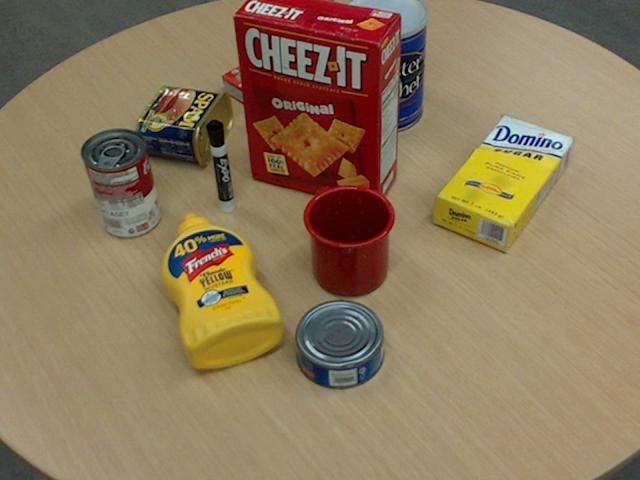cracker_box: (234, 0, 402, 206)
gelatin_box: (220, 51, 305, 116)
large_marker: (205, 119, 233, 213)
master_chef_can: (340, 0, 427, 133)
mug: (302, 184, 394, 295)
mustard_bottle: (159, 213, 283, 367)
potted_meat_can: (136, 85, 232, 164)
sugar_box: (433, 116, 573, 251)
tomato_soup_can: (80, 126, 158, 236)
tuna_fish_can: (295, 300, 384, 388)
